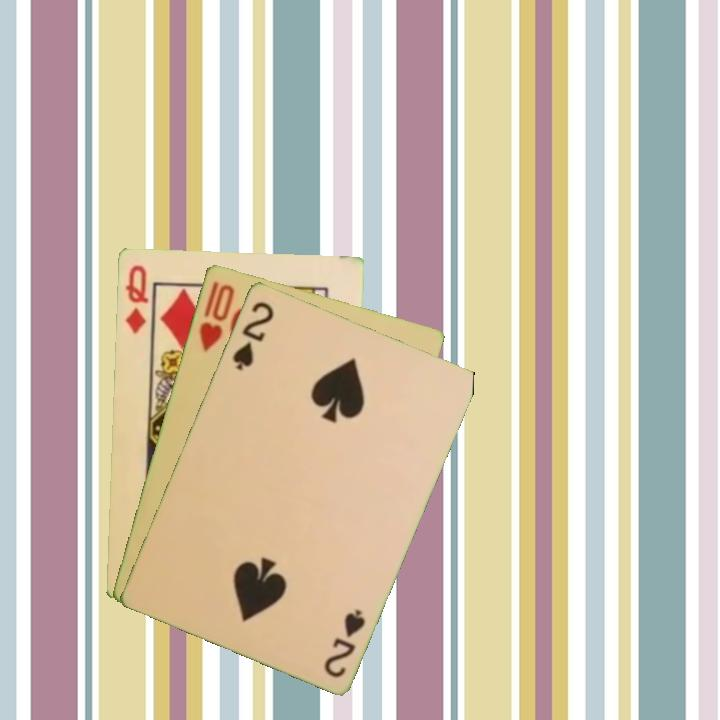10h: (195, 277, 237, 355)
2s: (228, 297, 277, 373), (320, 605, 368, 680)
Qd: (122, 261, 151, 336)
